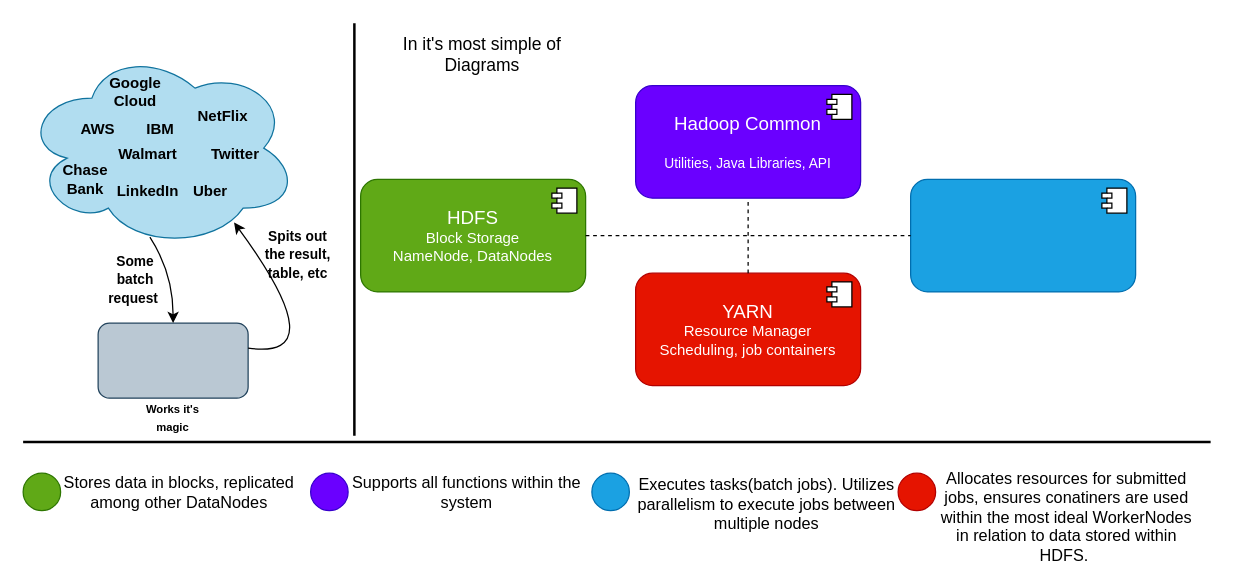
The diagram is 1233 pixels wide and 586 high, and some of its shapes have lost their labels. Here are the shapes that lost their labels. From the top down, the centre of each, then its label:
(1022,235): MapReduce Map and Reduce job Parallelism
(172,360): Hadoop Cluster
